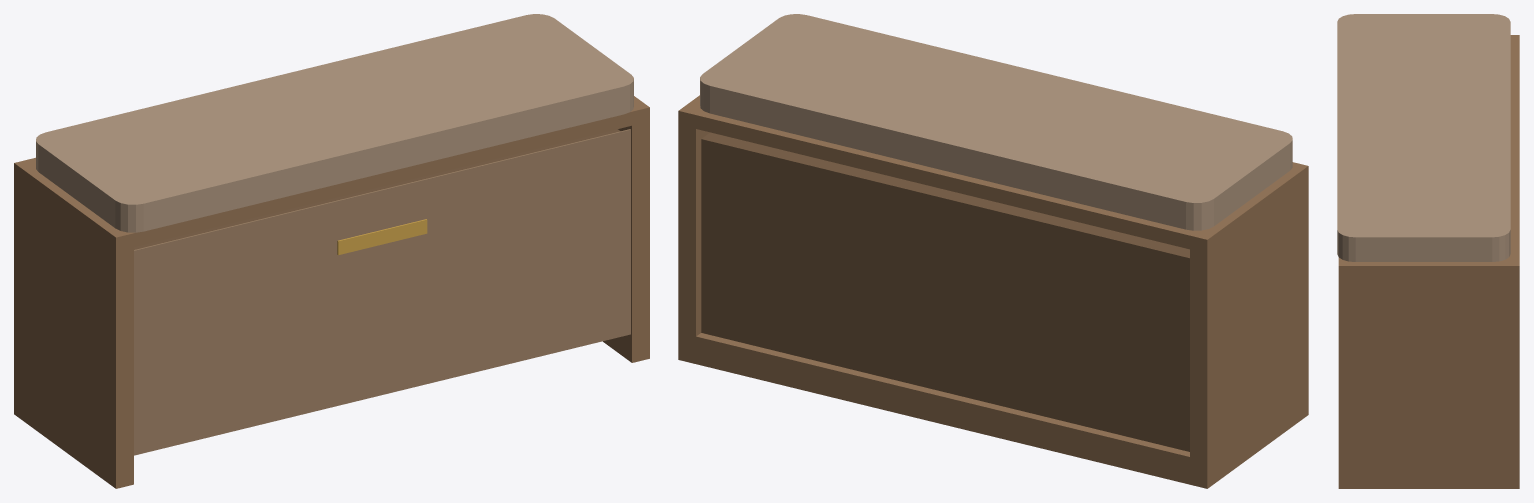
Rendered from folding_storage_bench.glb.
3 renders of one model, left to right at view 1: azimuth 30°, elevation 25°; view 2: azimuth 150°, elevation 25°; view 3: azimuth 270°, elevation 25°, orthographic. The views are drawn at different scales.
Parts seen in each view (by area): view 1: folding_storage_bench_Body, folding_storage_bench_Drawer; view 2: folding_storage_bench_Body, folding_storage_bench_Drawer; view 3: folding_storage_bench_Body.
Part boxes in pixels (<box>): folding_storage_bench_Body: <box>14,14,649,488</box>; folding_storage_bench_Drawer: <box>134,129,630,455</box>; folding_storage_bench_Body: <box>678,14,1308,488</box>; folding_storage_bench_Drawer: <box>701,132,1189,451</box>; folding_storage_bench_Body: <box>1337,14,1519,488</box>.
Size of the model in its own units: 1.2 by 0.6 by 0.4.
